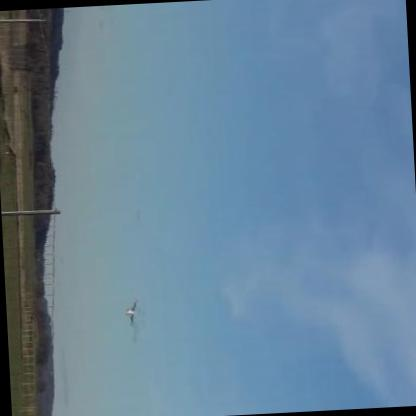plane: (122, 298, 137, 327)
